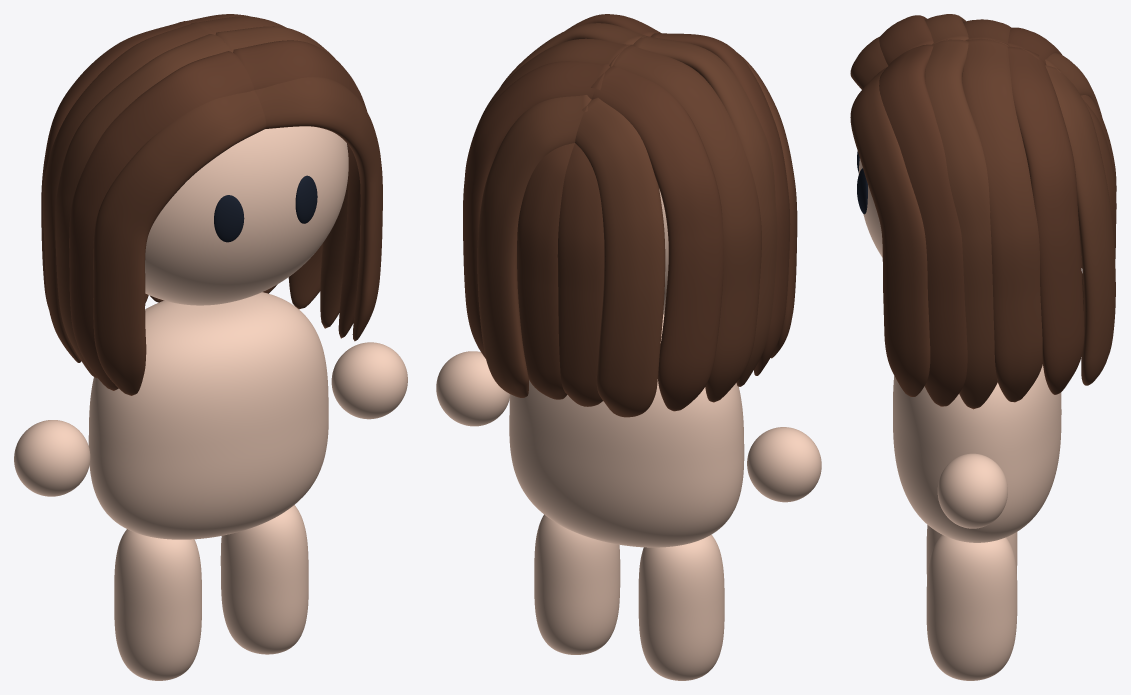
Rendered from Feminine-skin0.glb.
The picture shows the model from 3 angles, left to right: view 1: azimuth 30°, elevation 25°; view 2: azimuth 150°, elevation 25°; view 3: azimuth 270°, elevation 25°; orthographic projection. The views are drawn at different scales.
Visible parts, largest first — view 1: Skin / compact torso with skirt outline, Skin / soft oval head, Hair / Straight -1 0, Hair / Straight -1 1, Skin / leg -1, Skin / leg 1, Hair / Straight 1 0, Hair / Straight -1 2, Hair / Straight 1 1, Hair / Straight -1 3, Skin / hand 1, Skin / hand -1 (+5 smaller); view 2: Skin / compact torso with skirt outline, Hair / Straight -1 4, Hair / Straight -1 5, Hair / Straight -1 3, Hair / Straight 1 5, Skin / leg -1, Hair / Straight -1 6, Skin / leg 1, Hair / Straight 1 6, Hair / Straight 1 4, Hair / Straight -1 2, Hair / Straight -1 1 (+6 smaller); view 3: Skin / compact torso with skirt outline, Hair / Straight 1 3, Hair / Straight 1 4, Hair / Straight 1 1, Hair / Straight 1 0, Hair / Straight 1 2, Skin / leg 1, Hair / Straight 1 5, Skin / hand 1, Hair / Straight -1 1, Hair / Straight -1 0, Hair / Straight 1 6 (+7 smaller).
Part boxes in pixels (left/top/right/bottom): Skin / compact torso with skirt outline: left=88, top=292, right=328, bottom=539; Skin / soft oval head: left=145, top=126, right=348, bottom=305; Hair / Straight -1 0: left=93, top=90, right=266, bottom=395; Hair / Straight -1 1: left=69, top=51, right=254, bottom=390; Skin / leg -1: left=114, top=529, right=201, bottom=680; Skin / leg 1: left=220, top=505, right=308, bottom=654; Hair / Straight 1 0: left=254, top=77, right=382, bottom=341; Hair / Straight -1 2: left=55, top=34, right=231, bottom=378; Hair / Straight 1 1: left=233, top=40, right=366, bottom=338; Hair / Straight -1 3: left=43, top=22, right=214, bottom=362; Skin / hand 1: left=331, top=342, right=407, bottom=419; Skin / hand -1: left=14, top=420, right=90, bottom=496; Skin / compact torso with skirt outline: left=509, top=314, right=744, bottom=547; Hair / Straight -1 4: left=591, top=65, right=723, bottom=411; Hair / Straight -1 5: left=575, top=97, right=665, bottom=417; Hair / Straight -1 3: left=609, top=44, right=761, bottom=402; Hair / Straight 1 5: left=477, top=95, right=591, bottom=397; Skin / leg -1: left=638, top=534, right=724, bottom=680; Hair / Straight -1 6: left=557, top=143, right=604, bottom=406; Skin / leg 1: left=534, top=514, right=620, bottom=654; Hair / Straight 1 6: left=517, top=143, right=574, bottom=399; Hair / Straight 1 4: left=463, top=61, right=609, bottom=358; Hair / Straight -1 2: left=633, top=36, right=777, bottom=386; Hair / Straight -1 1: left=650, top=33, right=790, bottom=375; Skin / compact torso with skirt outline: left=893, top=364, right=1061, bottom=542; Hair / Straight 1 3: left=962, top=38, right=1042, bottom=402; Hair / Straight 1 4: left=1007, top=46, right=1084, bottom=394; Hair / Straight 1 1: left=879, top=44, right=967, bottom=406; Hair / Straight 1 0: left=850, top=67, right=930, bottom=396; Hair / Straight 1 2: left=925, top=39, right=997, bottom=409; Skin / leg 1: left=926, top=534, right=1017, bottom=680; Hair / Straight 1 5: left=1045, top=65, right=1115, bottom=385; Skin / hand 1: left=937, top=453, right=1007, bottom=528; Hair / Straight -1 1: left=879, top=15, right=933, bottom=65; Hair / Straight -1 0: left=850, top=37, right=888, bottom=89; Hair / Straight 1 6: left=1083, top=100, right=1116, bottom=259.
Size of the model in its own units: 1.49 by 2.33 by 0.9212.
